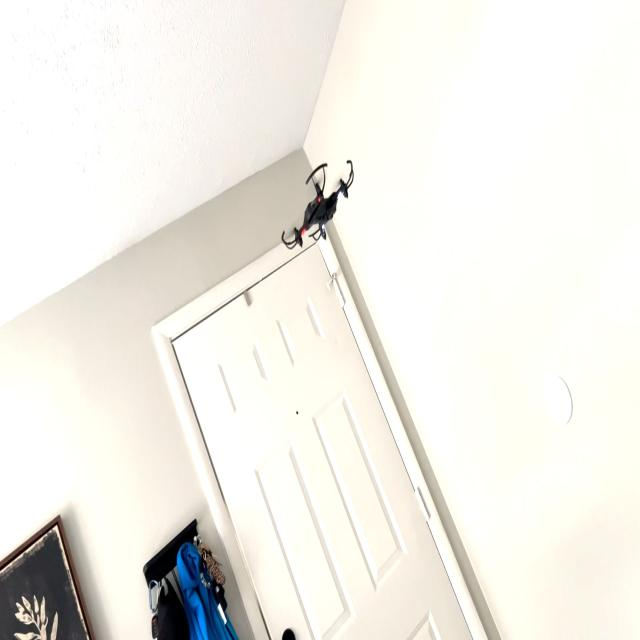drone: (278, 151, 357, 265)
